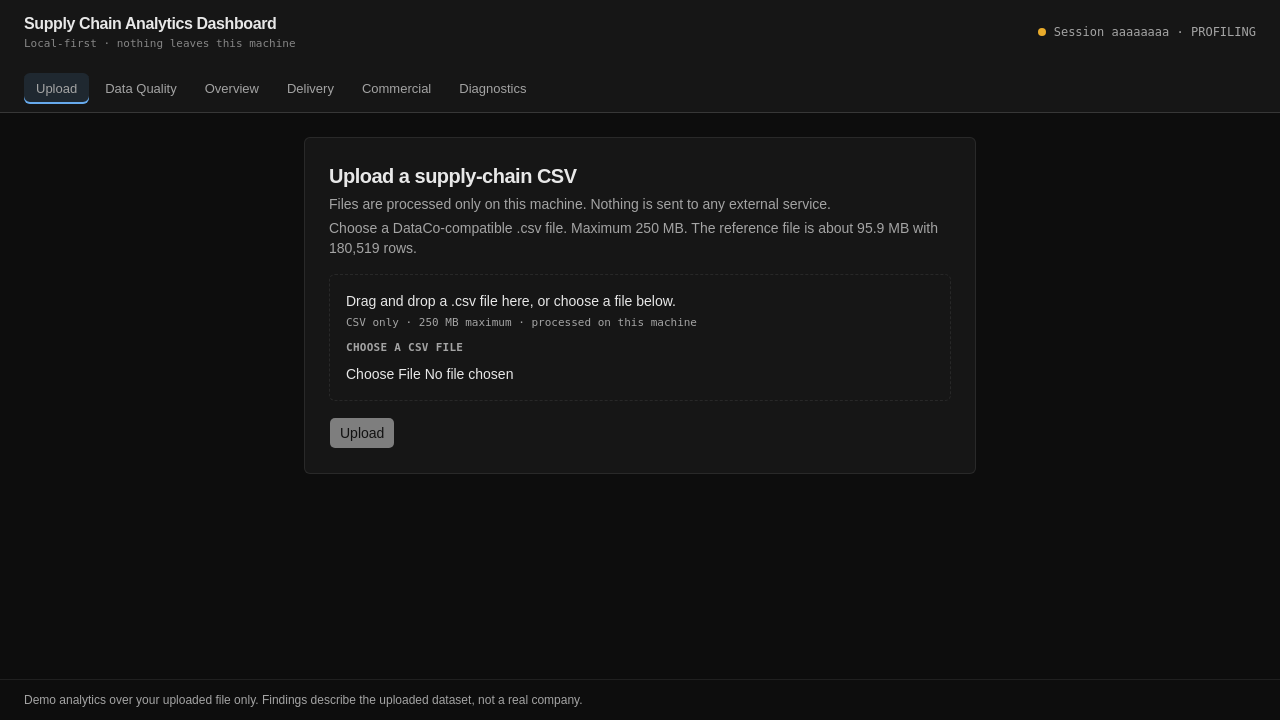
Test: Phase-11 Data Quality view › renders loading progress while reports are not ready
Click the button "Data Quality" at (141, 88), box [93,72,189,104]
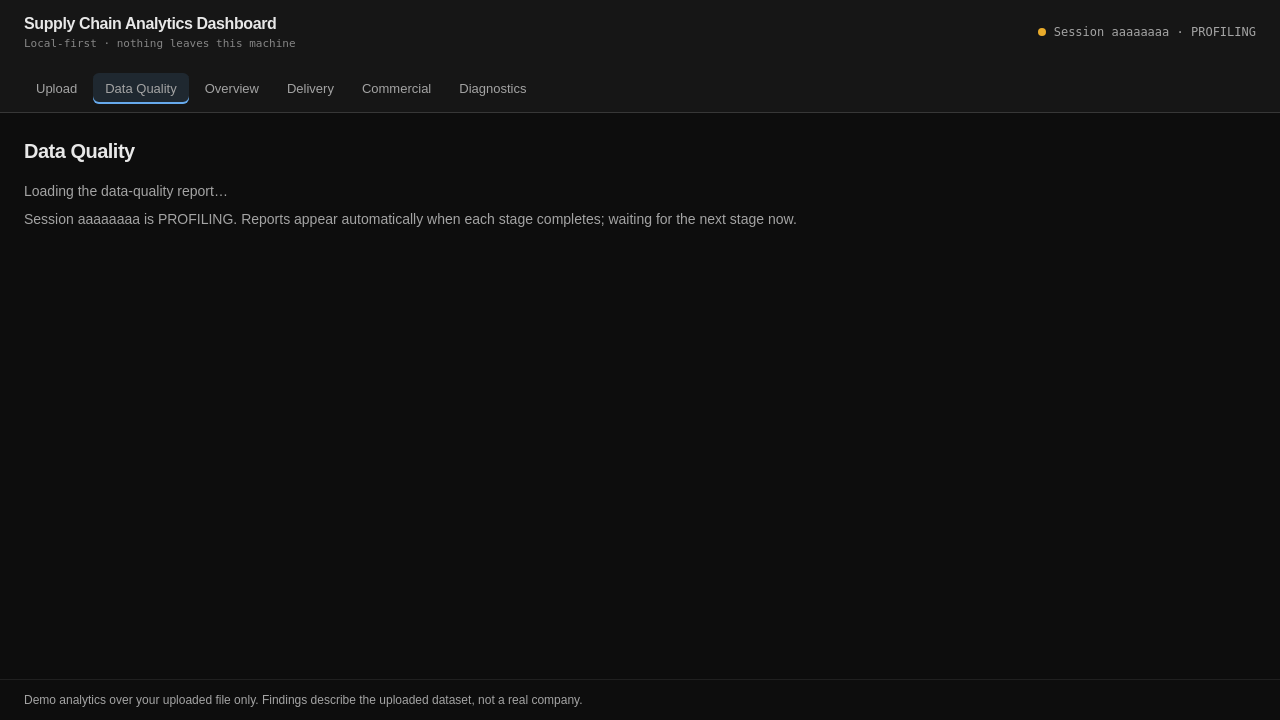
Check: the heading "Data Quality" is shown, box [24,140,135,162]
Check: the text "Loading the data-quality report…" is shown, box [24,183,228,199]
